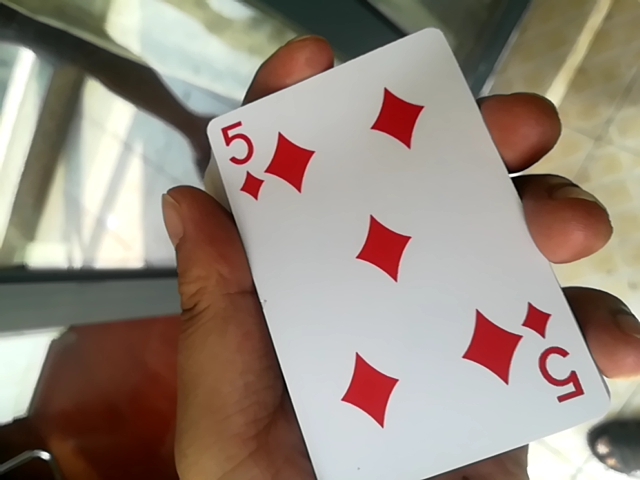fk 5: (198, 10, 608, 480)
